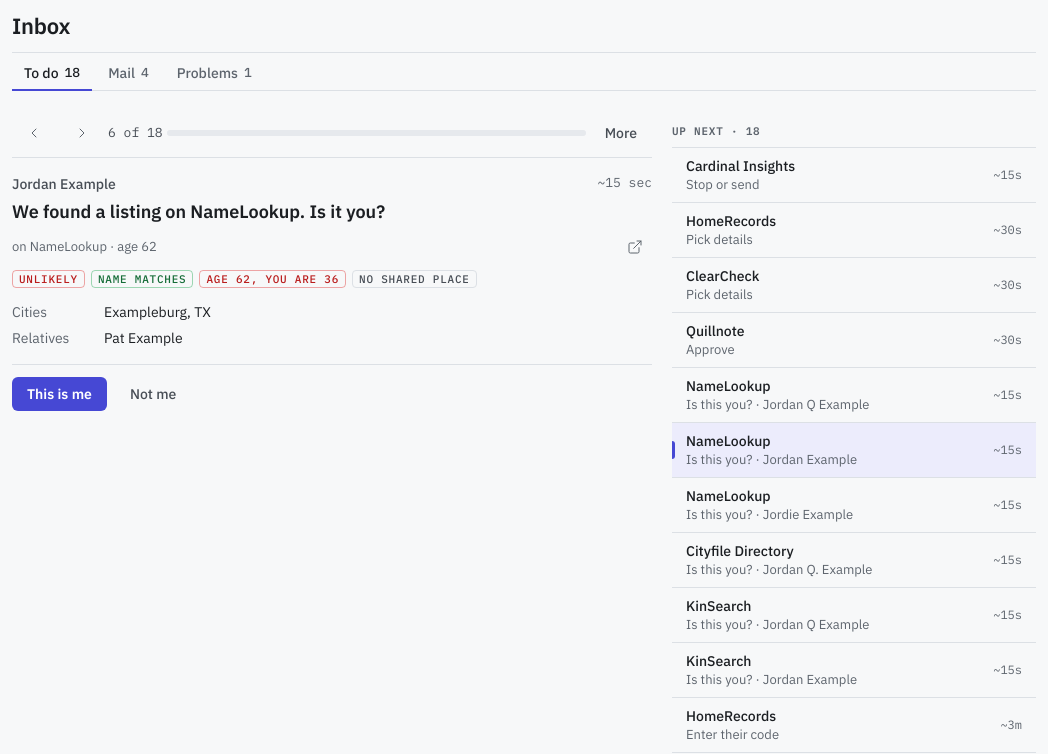
Test: a record › asks for the removal only after five seconds, and can be taken back
Click the button "This is me". click: (59, 394)
box: [12,377,107,411]
Wait 2000 ms
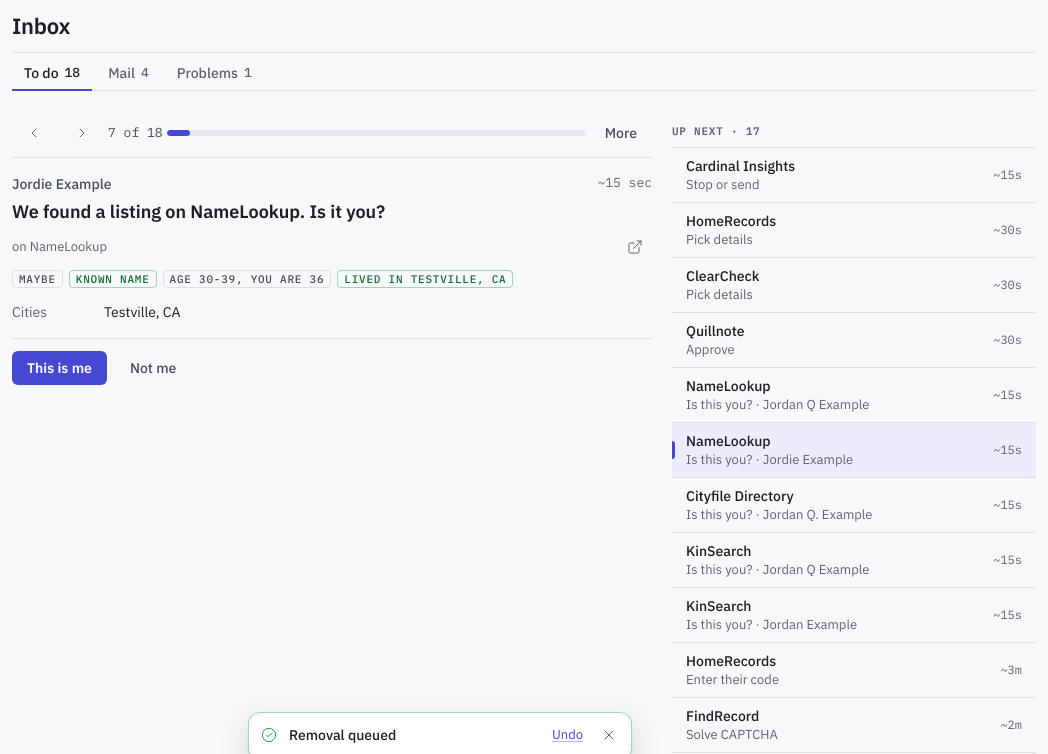
Click the button "Undo". click: (568, 735)
box: [552,721,583,749]
Wait 10000 ms
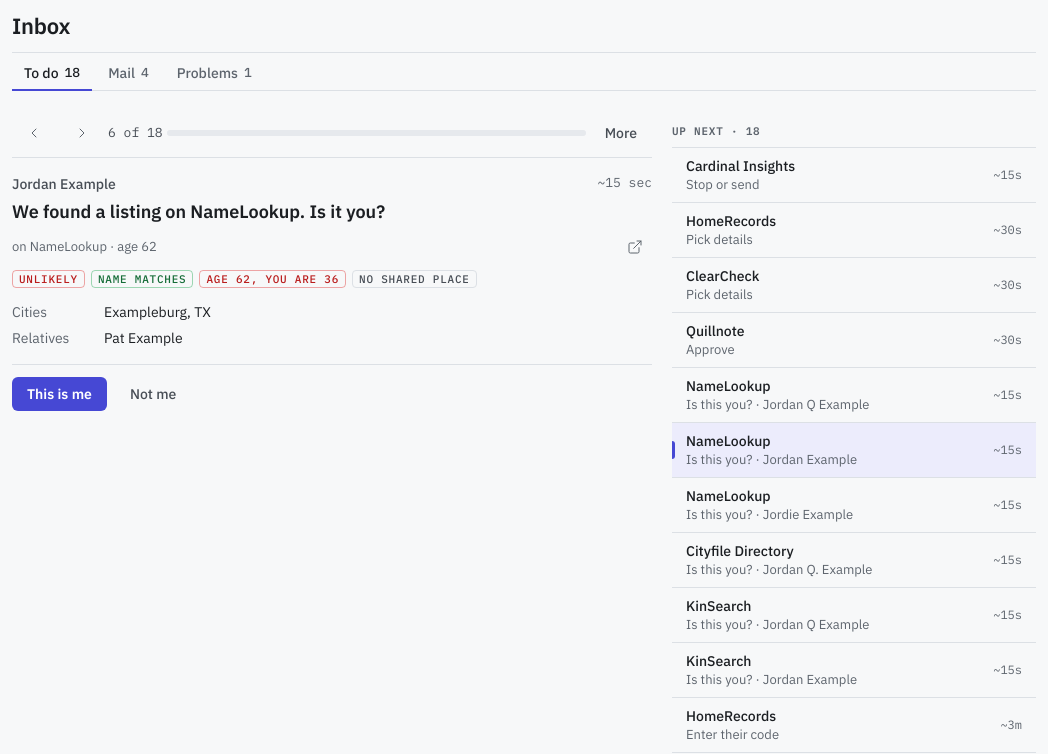
Expected: the element "Jordan Example" is shown, [12,111,652,423]
